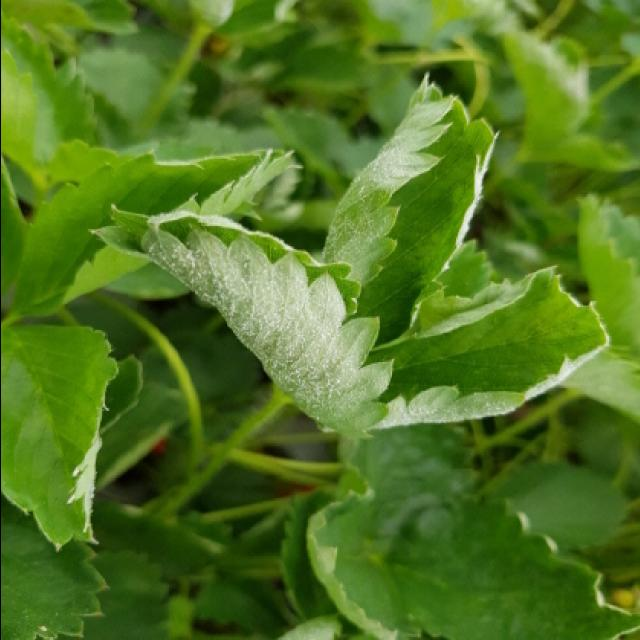Powdery Mildew Leaf: (86, 201, 394, 439), (321, 70, 502, 348), (361, 263, 611, 431), (2, 323, 118, 552)
